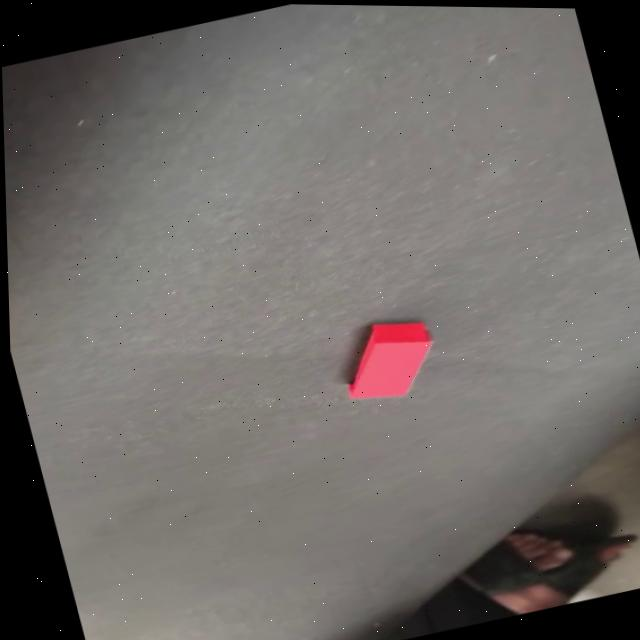red block: (329, 310, 446, 409)
